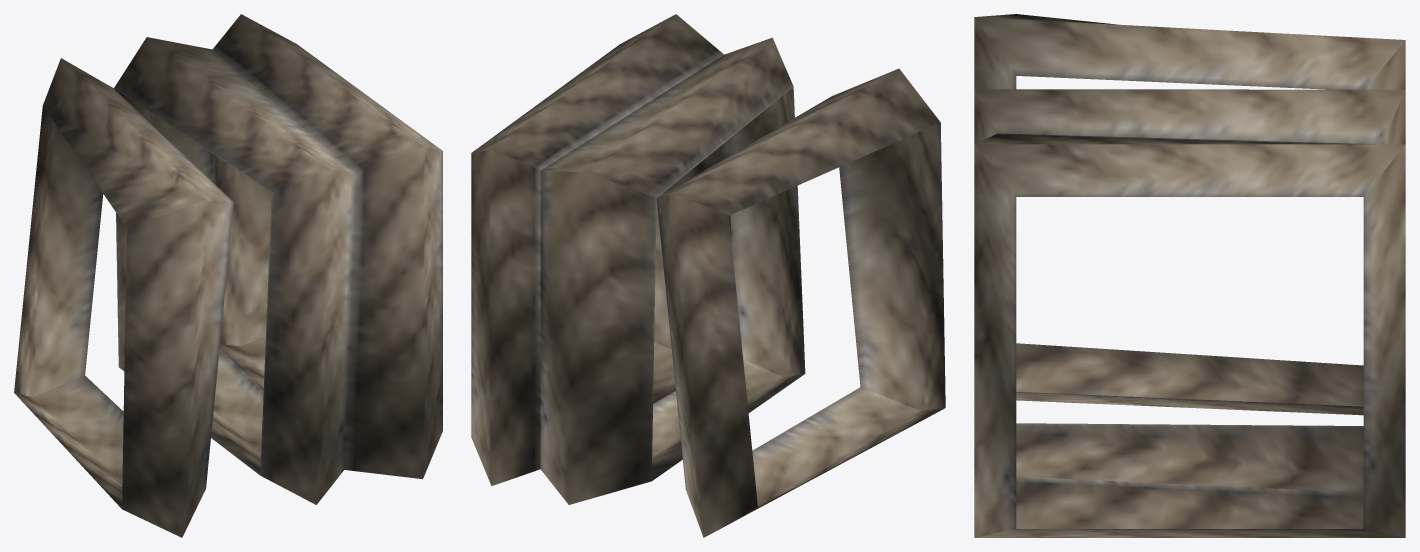
The model's file is Pole_Rope.fbx.
The picture shows the model from 3 angles, left to right: view 1: azimuth 30°, elevation 25°; view 2: azimuth 150°, elevation 25°; view 3: azimuth 270°, elevation 25°; orthographic projection. The views are drawn at different scales.
Parts seen in each view (by area): view 1: Pole_Rope; view 2: Pole_Rope; view 3: Pole_Rope.
Part boxes in pixels (x1,y1,x2,y2): Pole_Rope: [14, 14, 442, 537]; Pole_Rope: [471, 14, 945, 537]; Pole_Rope: [974, 14, 1405, 537].
Bounding box in the file's own units: 0.1768 × 0.1748 × 0.1735.
